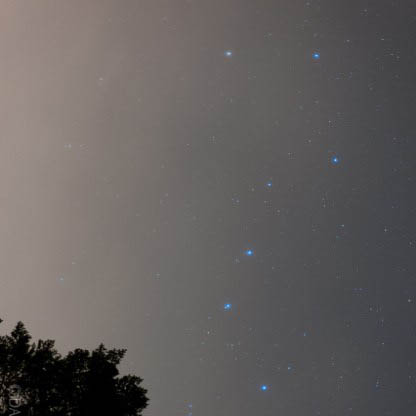Ursa Major: (244, 373, 271, 399), (218, 40, 242, 65), (305, 42, 329, 67), (237, 239, 259, 266), (262, 171, 280, 195), (221, 297, 238, 318), (327, 148, 342, 168)
